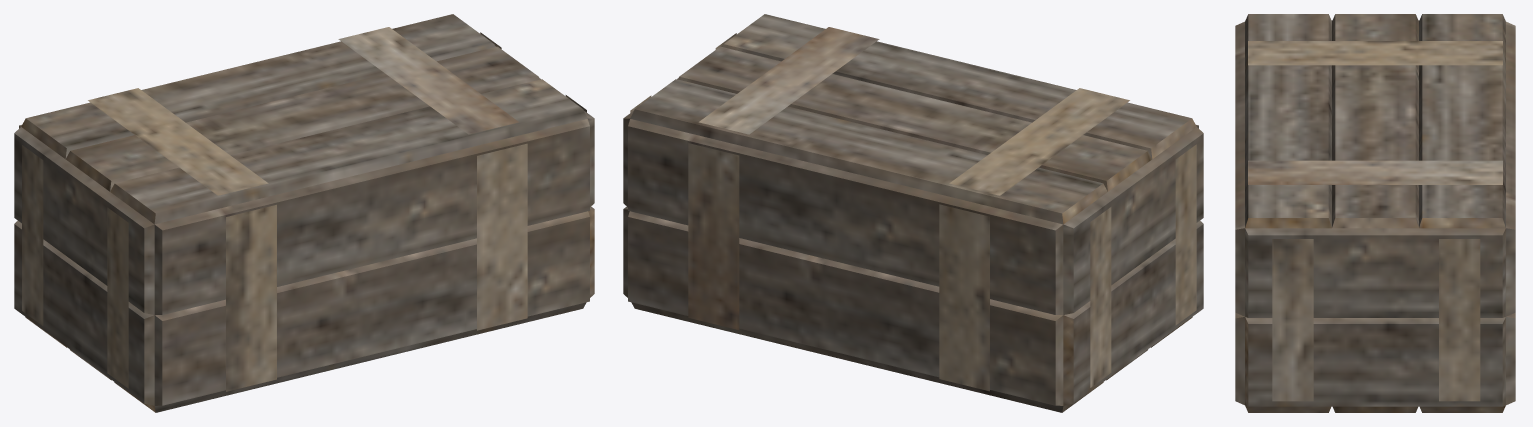
Rendered from Chest1_LOD1.fbx.
3 views of the same model, side by side, from view 1: azimuth 30°, elevation 25°; view 2: azimuth 150°, elevation 25°; view 3: azimuth 270°, elevation 25° (orthographic). The views are drawn at different scales.
Visible parts, largest first — view 1: polySurface317; view 2: polySurface317; view 3: polySurface317.
Boxes of the visible parts, x1,y1,x2,y2 form: polySurface317: (14, 14, 594, 412); polySurface317: (623, 14, 1203, 412); polySurface317: (1235, 14, 1515, 412).
Size of the model in its own units: 1.59 by 0.6688 by 0.8798.
